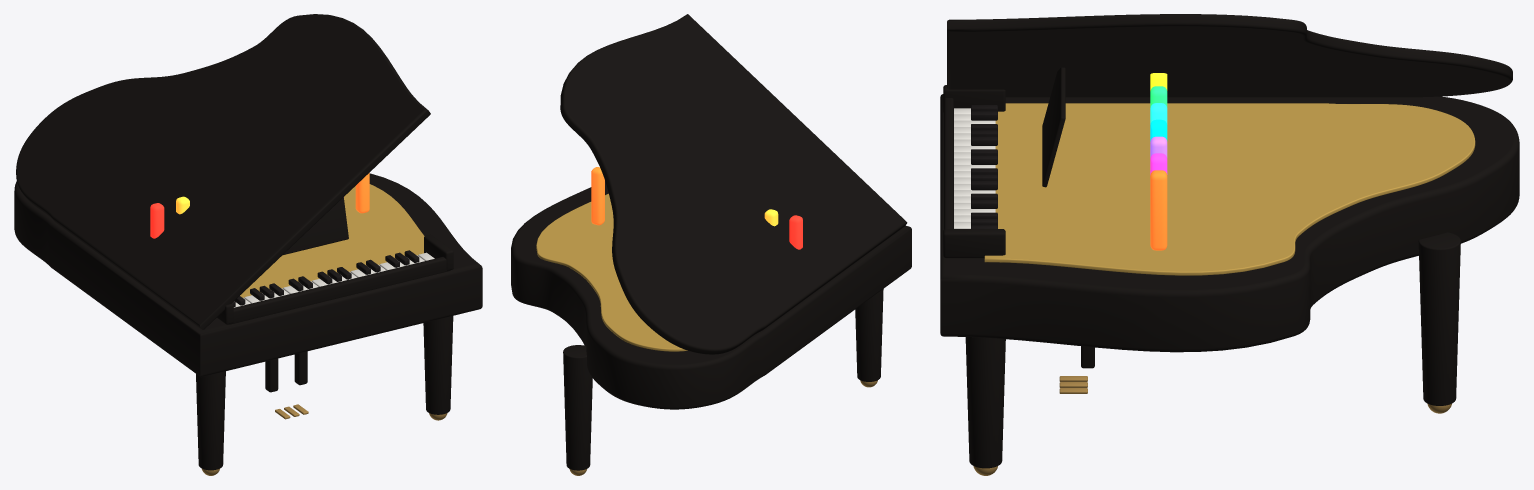
The model's file is piano.glb.
3 views of the same model, side by side, from view 1: azimuth 30°, elevation 25°; view 2: azimuth 150°, elevation 25°; view 3: azimuth 270°, elevation 25° (orthographic). The views are drawn at different scales.
Visible parts, largest first — view 1: p_lid, p_body, p_harp, keyslip, leg, leg.001, stand, cheek_r, mused_bar_8; view 2: p_lid, p_body, p_harp, leg.002, leg, mused_bar_8, mused_bar_0; view 3: p_harp, p_body, p_lid, leg.002, leg.001, cheek_r, stand, mused_bar_8, keyslip, cheek_l.
Boxes of the visible parts, x1,y1,x2,y2 form: p_lid: (16,14,430,329); p_body: (14,173,482,377); p_harp: (240,184,424,297); keyslip: (228,257,450,324); leg: (196,371,225,470); leg.001: (423,316,453,414); stand: (283,197,348,254); cheek_r: (424,234,453,270); mused_bar_8: (355,173,369,213); p_lid: (560,14,907,354); p_body: (511,181,911,409); p_harp: (536,193,687,351); leg.002: (563,345,592,470); leg: (855,289,883,381); mused_bar_8: (591,167,604,225); mused_bar_0: (789,215,802,249); p_harp: (984,103,1475,275); p_body: (940,94,1519,352); p_lid: (947,14,1512,97); leg.002: (1418,232,1460,405); leg.001: (965,337,1005,468); cheek_r: (943,229,1005,258); stand: (1042,67,1065,187); mused_bar_8: (1150,170,1167,250); keyslip: (944,98,953,229); cheek_l: (943,85,1005,112).
Size of the model in its own units: 1.67 by 1.77 by 2.04.
